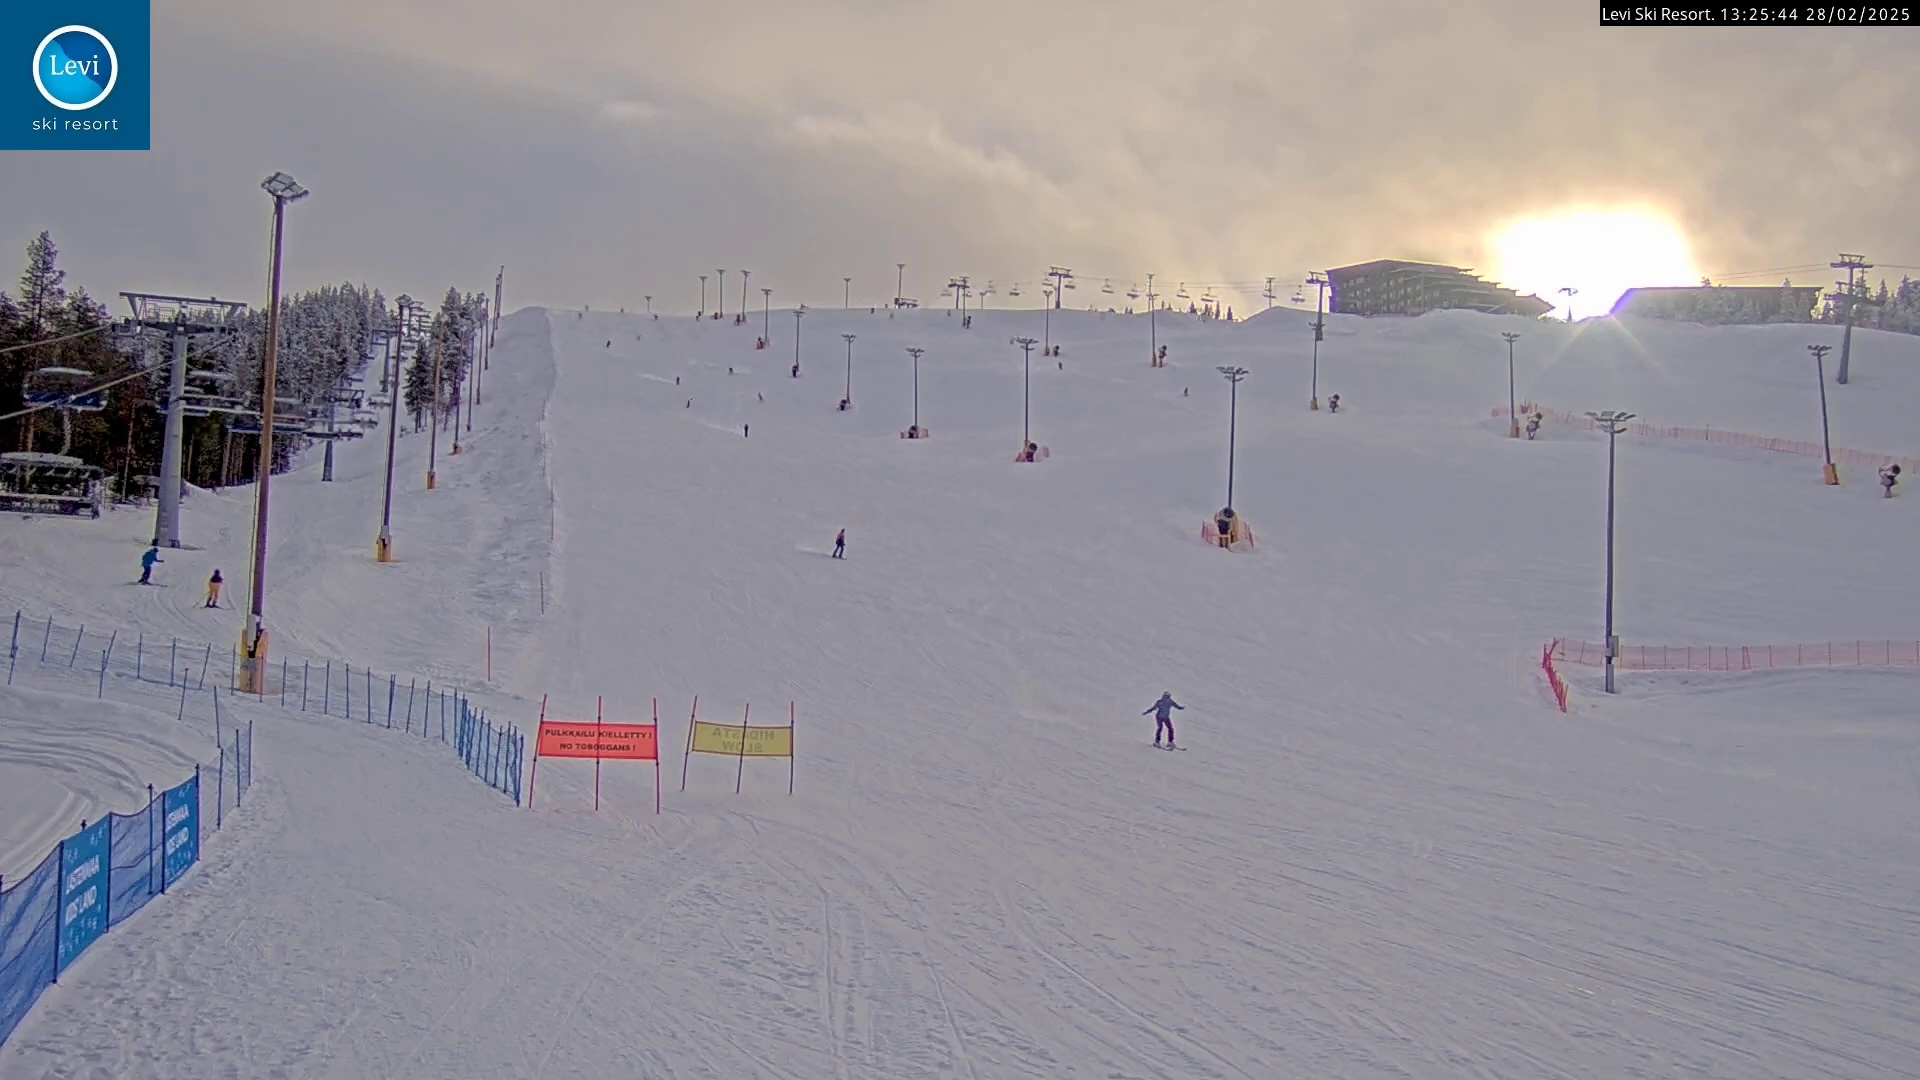skier: (1139, 687, 1184, 754)
